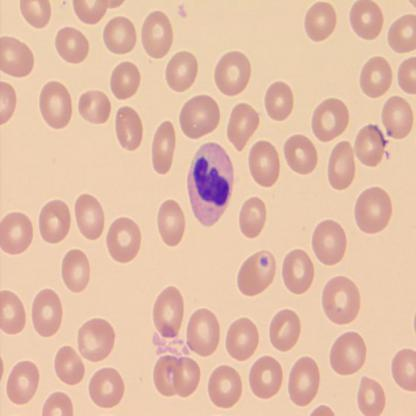Segmented neutrophil: (185, 139, 236, 231)
